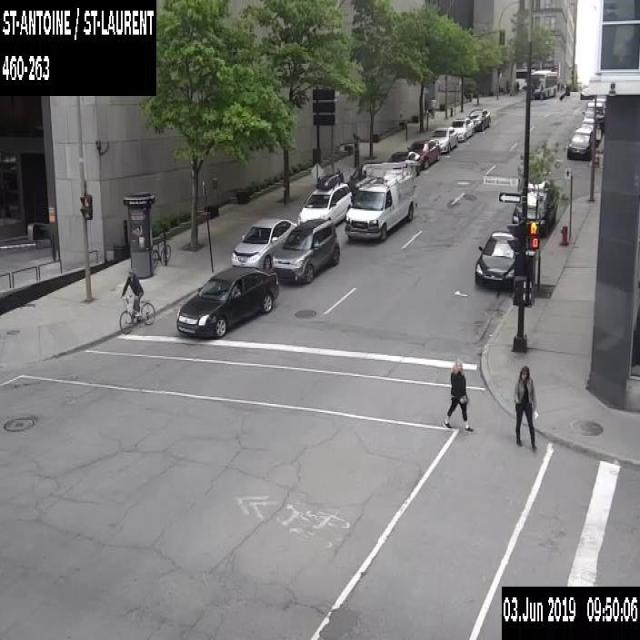bus: (530, 66, 558, 98), (515, 67, 535, 89)
cyclist: (116, 268, 154, 333)
pedestrian: (442, 357, 473, 432), (513, 363, 537, 449)
vehicle: (175, 264, 278, 339), (344, 158, 420, 239), (271, 218, 339, 282), (231, 216, 296, 271), (296, 170, 352, 226), (474, 229, 522, 287), (512, 179, 558, 235), (347, 161, 378, 199), (406, 138, 439, 168), (566, 126, 594, 158), (428, 124, 457, 152), (388, 150, 420, 175), (449, 116, 474, 140), (467, 107, 490, 130), (582, 101, 604, 125), (581, 116, 600, 140), (580, 83, 593, 99), (592, 96, 606, 108)
